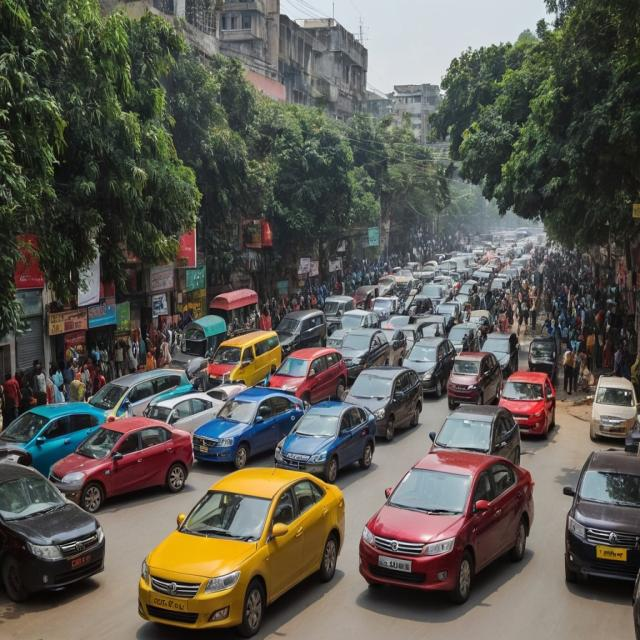black: (0, 459, 109, 602), (556, 442, 640, 596), (342, 361, 428, 444), (429, 399, 519, 476), (402, 334, 453, 396), (334, 327, 390, 380), (270, 308, 327, 350)
blue: (191, 385, 307, 473), (283, 397, 377, 481), (0, 406, 112, 473)
maroon: (446, 347, 494, 409)
red: (357, 449, 538, 592), (52, 412, 199, 506), (266, 348, 352, 416), (499, 370, 552, 440)
white: (593, 370, 640, 445)
